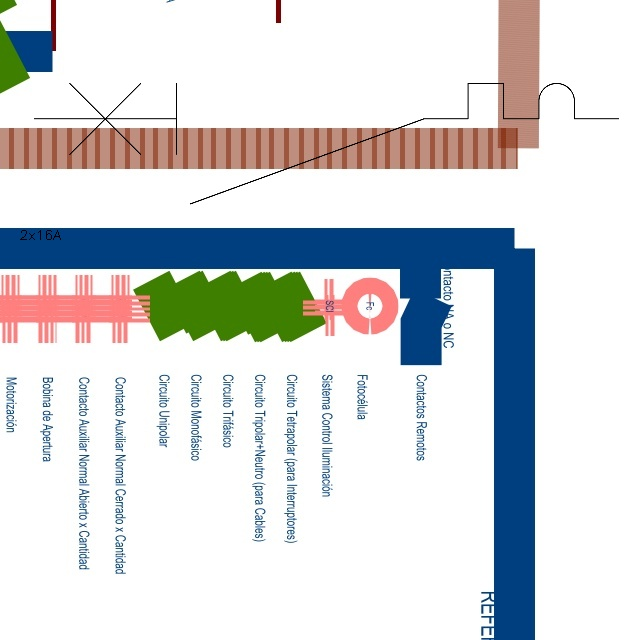interruptor_termomagnetico: (19, 68, 634, 218)
